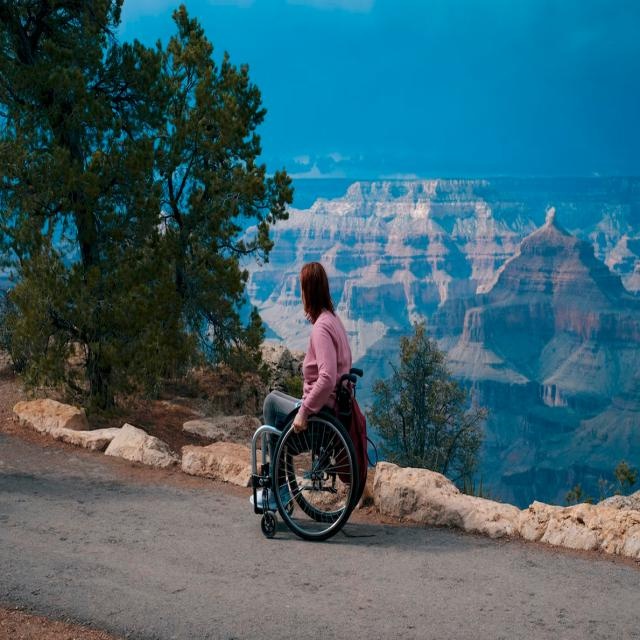wheelchairs: (248, 369, 369, 537)
